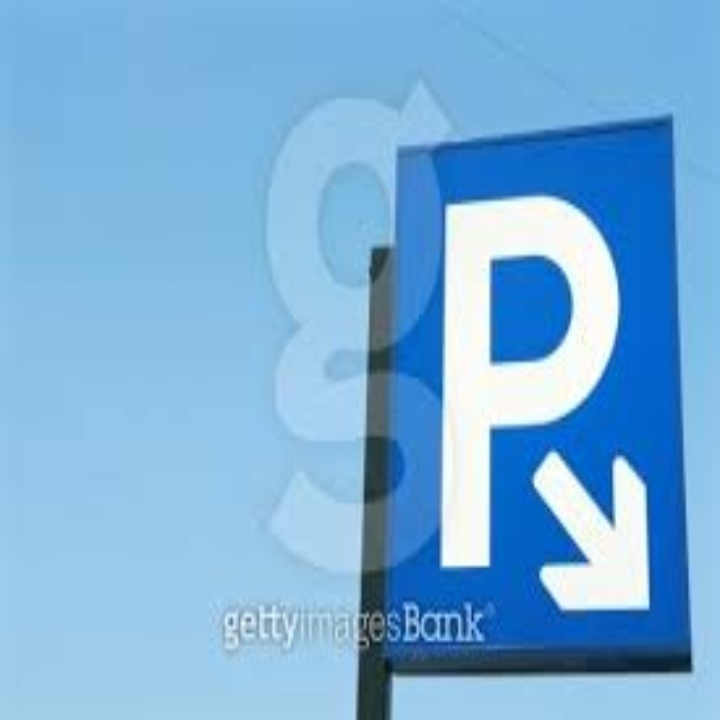parking: (429, 179, 630, 578)
